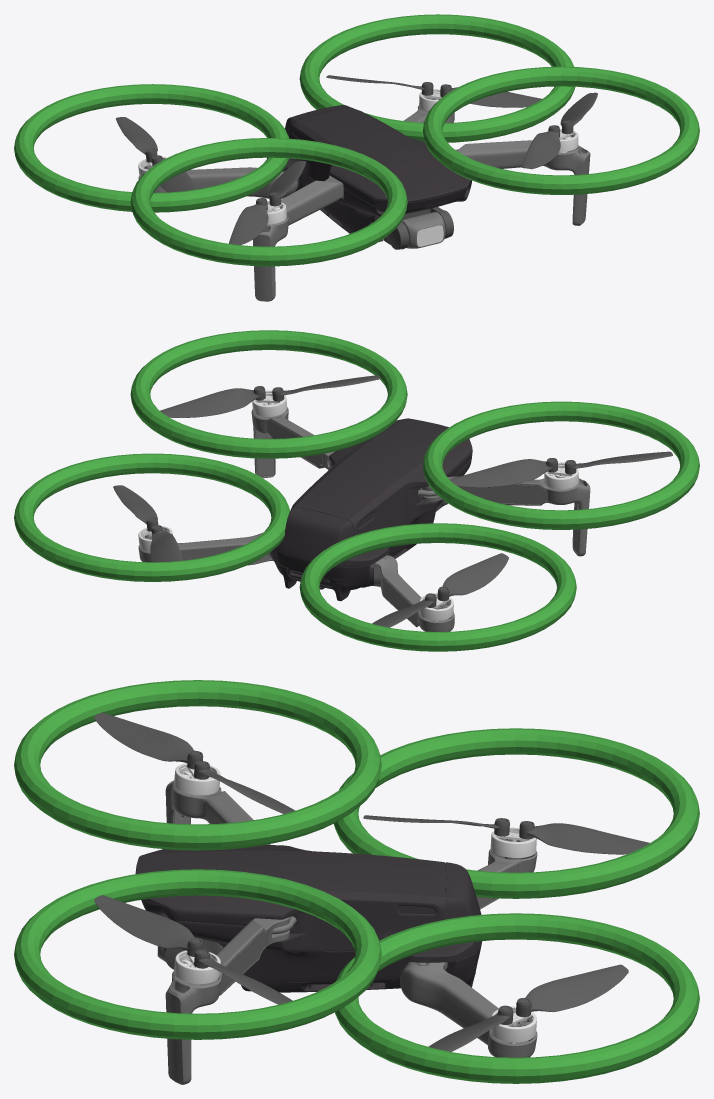
Rendered from DJI_Mavic_green.glb.
3 views of the same model, one above another, from view 1: azimuth 30°, elevation 25°; view 2: azimuth 150°, elevation 25°; view 3: azimuth 270°, elevation 25° (orthographic). The views are drawn at different scales.
Visible parts, largest first — view 1: Torus.001, Torus.002, Torus.003, Body, Torus, Front Right arm, Front Left arm, Rear Right arm, dji_mini_2_open.015, dji_mini_2_open.016, dji_mini_2_open.027, Camera gimbal (+7 smaller); view 2: Body, Torus.001, Torus.003, Torus.002, Torus, Front Right arm, Rear Right arm, dji_mini_2_open.019, Front Left arm, dji_mini_2_open.017, dji_mini_2_open.043, Rear Left arm (+8 smaller); view 3: Body, Torus.002, Torus.001, Torus, Torus.003, Front Left arm, Rear Left arm, dji_mini_2_open.079, dji_mini_2_open.016, dji_mini_2_open.015, dji_mini_2_open.042, Front Right arm (+9 smaller).
Part boxes in pixels (x1,y1,x2,y2): Torus.001: (423, 66, 699, 194); Torus.002: (130, 138, 407, 266); Torus.003: (14, 84, 288, 212); Body: (267, 105, 471, 241); Torus: (299, 14, 575, 142); Front Right arm: (253, 175, 343, 301); Front Left arm: (455, 140, 590, 225); Rear Right arm: (138, 165, 297, 198); dji_mini_2_open.015: (229, 198, 268, 245); dji_mini_2_open.016: (521, 125, 560, 169); dji_mini_2_open.027: (440, 84, 541, 107); Camera gimbal: (383, 207, 453, 249); Body: (270, 418, 472, 601); Torus.001: (130, 330, 407, 458); Torus.003: (299, 523, 576, 651); Torus.002: (423, 401, 699, 529); Torus: (14, 453, 289, 581); Front Right arm: (418, 476, 590, 556); Rear Right arm: (371, 555, 454, 631); dji_mini_2_open.019: (450, 458, 557, 487); Front Left arm: (251, 407, 334, 478); dji_mini_2_open.017: (160, 386, 265, 417); dji_mini_2_open.043: (437, 553, 508, 601); Rear Left arm: (138, 532, 273, 565); Body: (135, 845, 482, 992); Torus.002: (14, 680, 381, 850); Torus.001: (14, 869, 381, 1039); Torus: (335, 913, 699, 1083); Torus.003: (334, 728, 699, 898); Front Left arm: (165, 916, 296, 1084); Rear Left arm: (400, 961, 537, 1057); dji_mini_2_open.079: (516, 964, 628, 1017); dji_mini_2_open.016: (94, 895, 203, 956); dji_mini_2_open.015: (94, 712, 203, 769); dji_mini_2_open.042: (519, 821, 649, 854); Front Right arm: (165, 780, 270, 844).
Bounding box in the file's own units: 0.3205 × 0.0573 × 0.2695.
